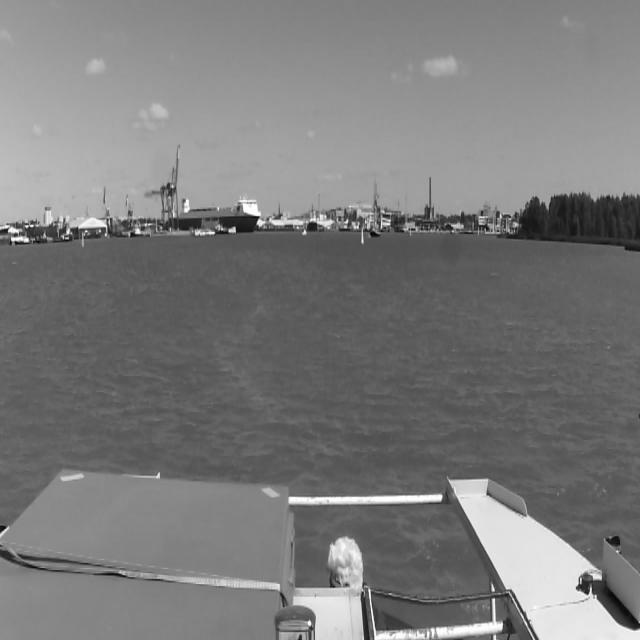buoy: (361, 226, 363, 244)
ship: (171, 199, 259, 232), (366, 200, 382, 236), (308, 204, 318, 232), (298, 216, 306, 236)
